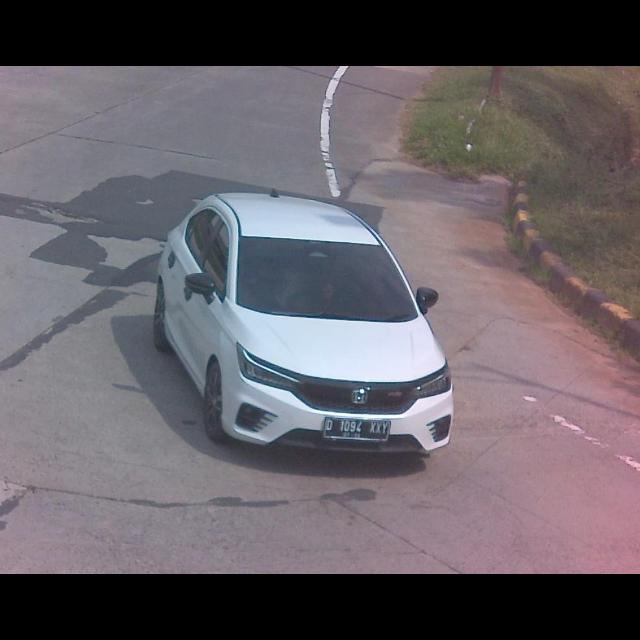plate: (323, 415, 392, 443)
